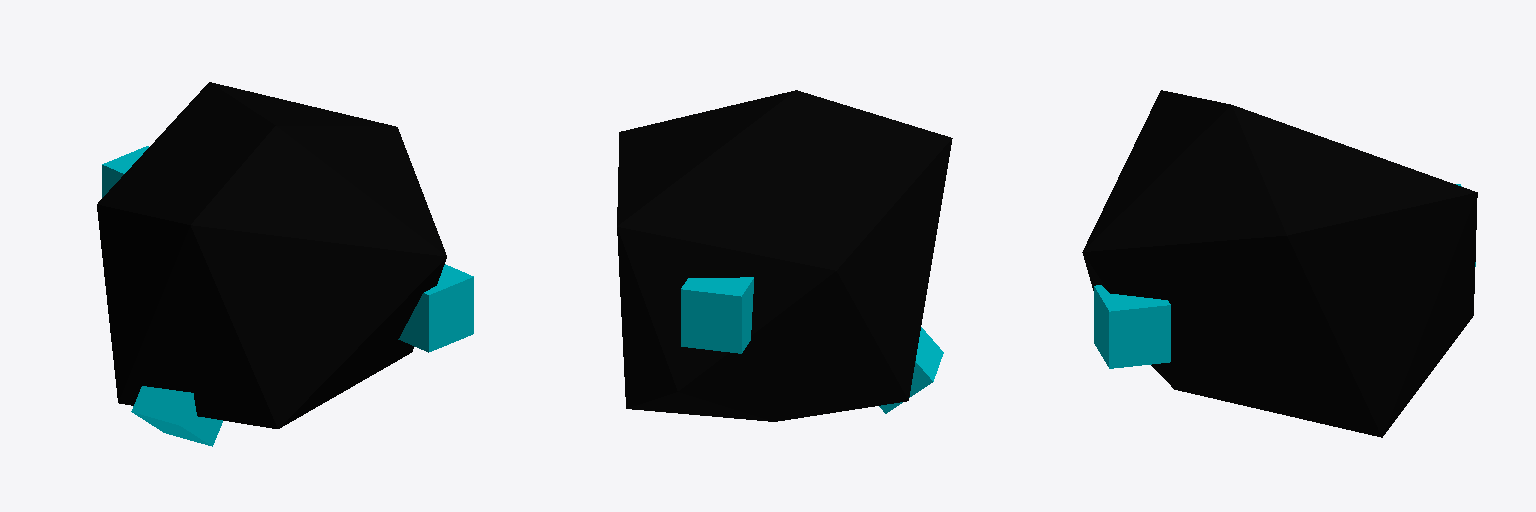
Rendered from my_rock.obj.
3 views of the same model, side by side, from view 1: azimuth 30°, elevation 25°; view 2: azimuth 150°, elevation 25°; view 3: azimuth 270°, elevation 25° (orthographic).
Parts seen in each view (by area): view 1: Icosphere, Cube.001_Cube.002, Cube.002_Cube.003, Cube_Cube.001; view 2: Icosphere, Cube_Cube.001, Cube.002_Cube.003; view 3: Icosphere, Cube.001_Cube.002.
Part boxes in pixels (x1,y1,x2,y2): Icosphere: (97,82,446,428); Cube.001_Cube.002: (398,264,473,352); Cube.002_Cube.003: (131,386,222,446); Cube_Cube.001: (102,146,148,197); Icosphere: (617,90,952,421); Cube_Cube.001: (681,277,753,353); Cube.002_Cube.003: (879,327,943,413); Icosphere: (1082,90,1477,437); Cube.001_Cube.002: (1094,285,1170,368).
Size of the model in its own units: 0.8183 by 0.8043 by 0.9655.